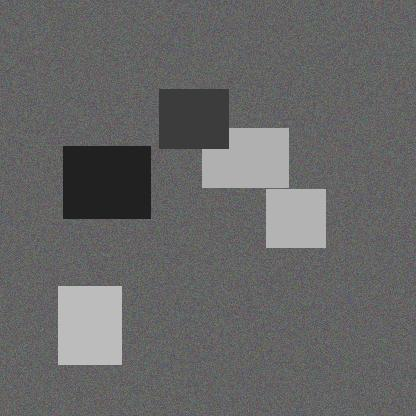empty: (159, 121, 242, 197)
occupied: (154, 298, 207, 364), (226, 261, 293, 308), (195, 211, 248, 264)
